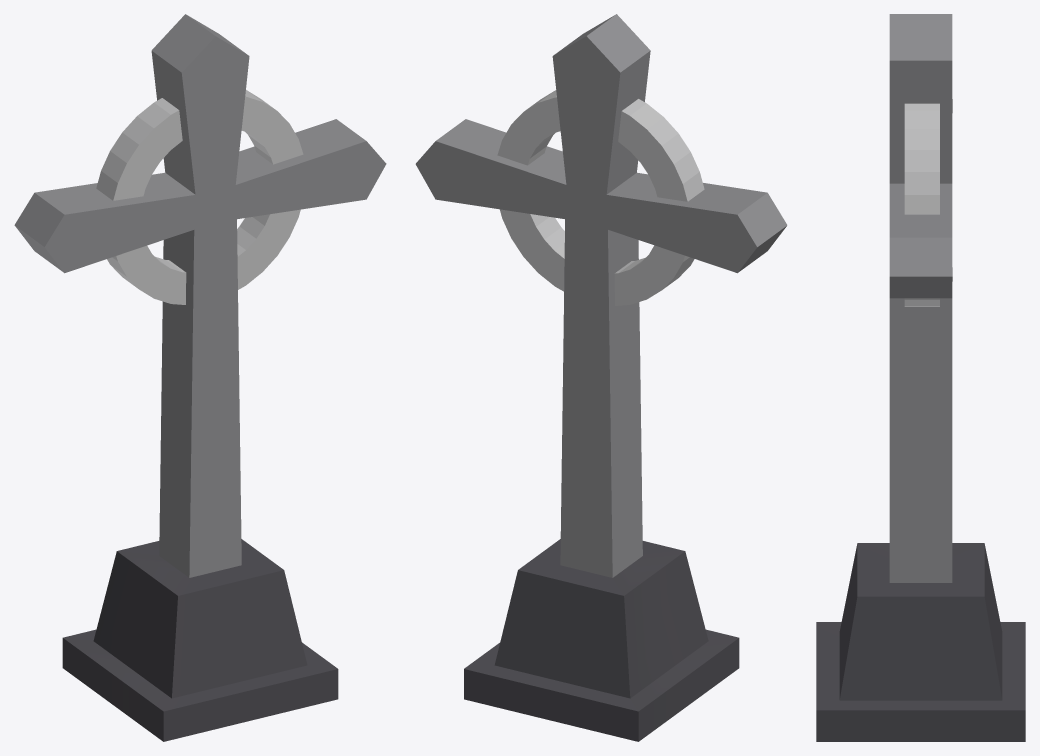
The model's file is TombStone01.glb.
3 views of the same model, side by side, from view 1: azimuth 30°, elevation 25°; view 2: azimuth 150°, elevation 25°; view 3: azimuth 270°, elevation 25° (orthographic). The views are drawn at different scales.
Parts seen in each view (by area): view 1: TombStone01; view 2: TombStone01; view 3: TombStone01.
Part boxes in pixels (x1,y1,x2,y2): TombStone01: [14, 14, 386, 741]; TombStone01: [415, 14, 787, 741]; TombStone01: [816, 14, 1025, 741].
Size of what is drawn, in the model's own units: 1.19 by 2.2 by 0.6098.
Materials: 1 (1 with a texture image).
